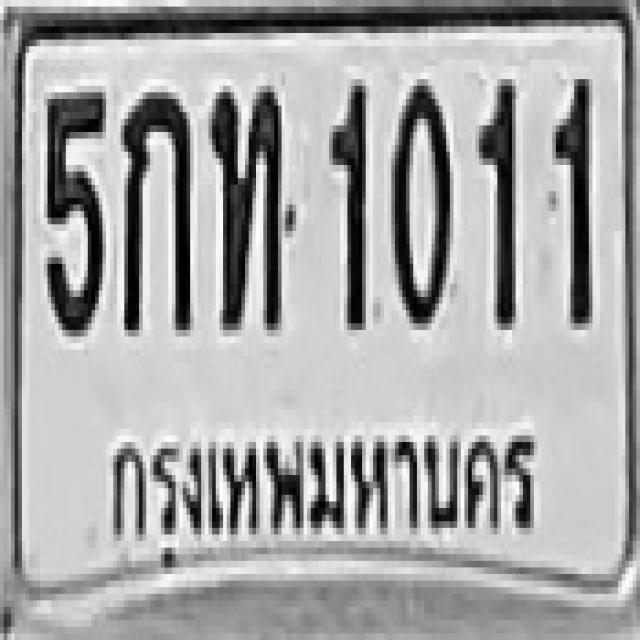0: (388, 76, 446, 320)
1: (550, 69, 590, 320), (326, 76, 366, 320), (475, 69, 512, 320)
10GorGai: (121, 82, 190, 326)
32ThorThaHan: (208, 79, 282, 323)
5: (44, 86, 102, 330)
Bangkok: (103, 406, 546, 564)
